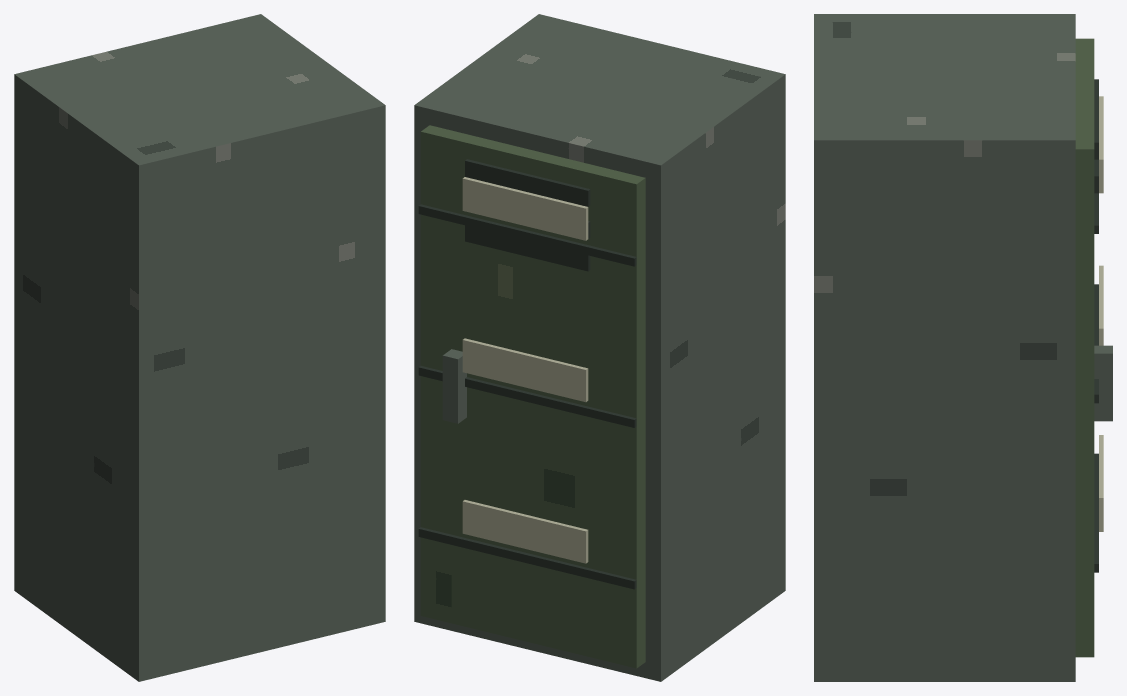
The model's file is filing_cabinet.gltf.
3 renders of one model, left to right at view 1: azimuth 30°, elevation 25°; view 2: azimuth 150°, elevation 25°; view 3: azimuth 270°, elevation 25°, orthographic. The views are drawn at different scales.
Parts seen in each view (by area): view 1: body; view 2: body, panel, label (×3), drawer_seam (×3), vent (×2), handle; view 3: body, panel, handle, label (×2), drawer_seam.
Part boxes in pixels (x1,y1,x2,y2): body: (14, 14, 385, 681); body: (414, 14, 785, 681); panel: (420, 125, 645, 668); label (×3): (462, 177, 588, 563); drawer_seam (×3): (418, 204, 636, 589); vent (×2): (465, 159, 590, 271); handle: (442, 349, 466, 423); body: (814, 14, 1075, 681); panel: (1075, 38, 1094, 657); handle: (1094, 345, 1112, 421); label (×2): (1099, 96, 1103, 531); drawer_seam: (1094, 453, 1098, 572).
Size of the model in its own units: 1 by 2 by 1.
4 materials, 4 textured.
